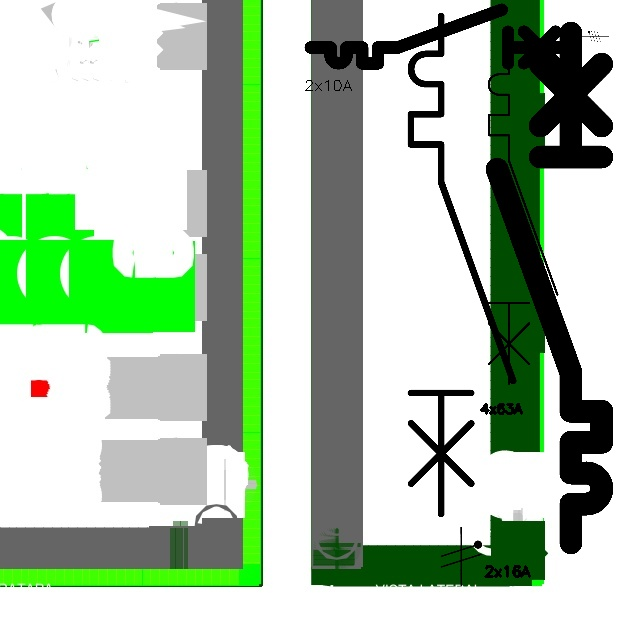interruptor_termomagnetico: (484, 20, 615, 556), (398, 3, 526, 526), (480, 40, 566, 393), (304, 3, 578, 70)
